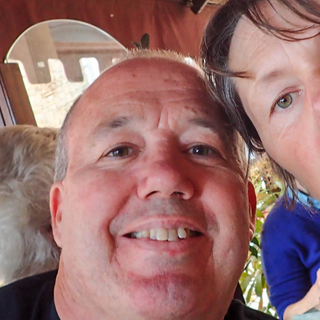eye: (99, 136, 143, 167), (182, 135, 223, 164), (262, 86, 303, 115)
